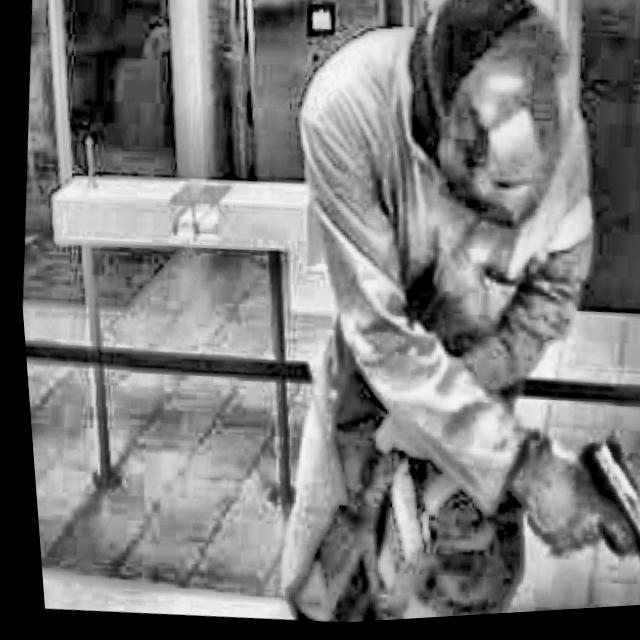robbery: (231, 0, 640, 629)
